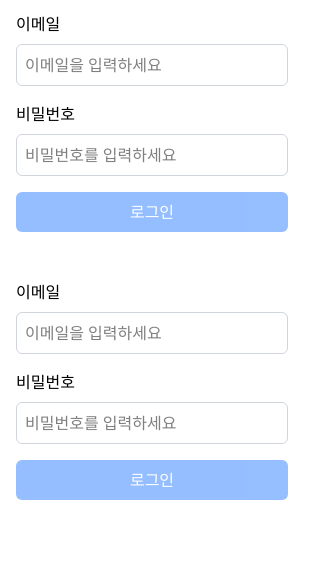
Test: LoginForm 컴포넌트 테스트 › 버튼 활성화 상태 › 이메일 비밀번호 입력시 로그인 버튼 활성화 확인
The image size is (320, 567).
로그인 버튼과 입력 필드 가져오기
Step 1. Type "test" into the field labelled "이메일" → (152, 65), box x1=16 y1=44 x2=288 y2=86
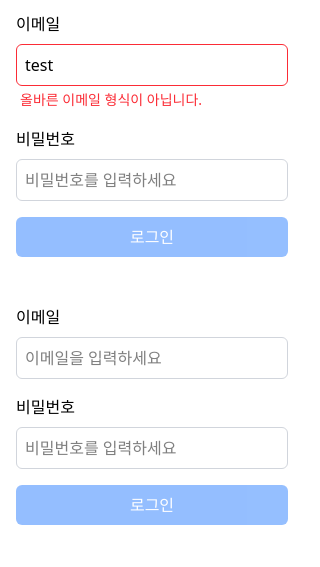
Step 2. Type "test" into the password field labelled "비밀번호" → (152, 180), box x1=16 y1=159 x2=288 y2=201
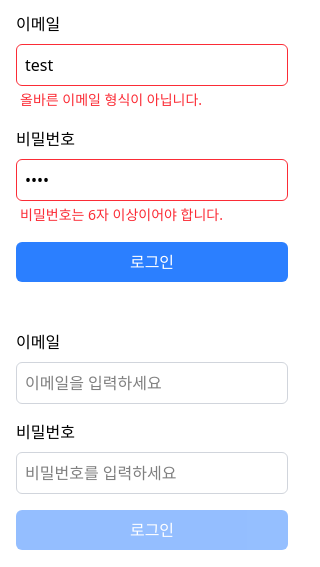
Expected: the button "로그인" below "비밀번호는 6자 이상이어야 합니다." is enabled, x1=16 y1=242 x2=288 y2=282
